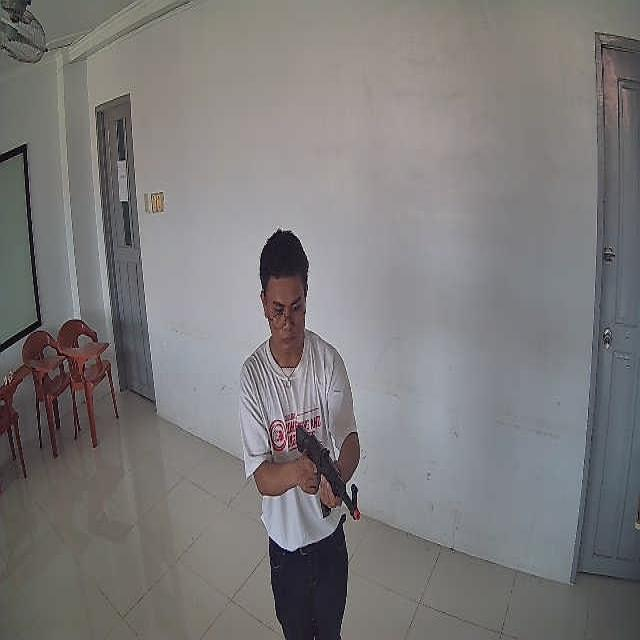rifle: (296, 427, 360, 520)
